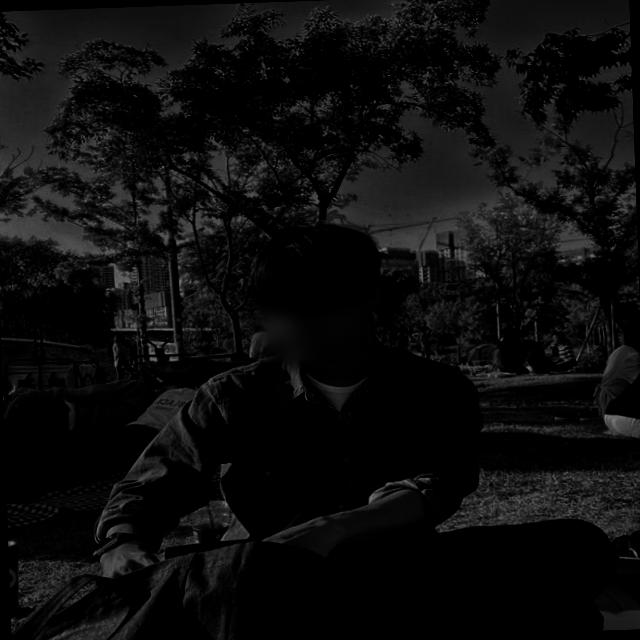shirt: (87, 332, 488, 557)
